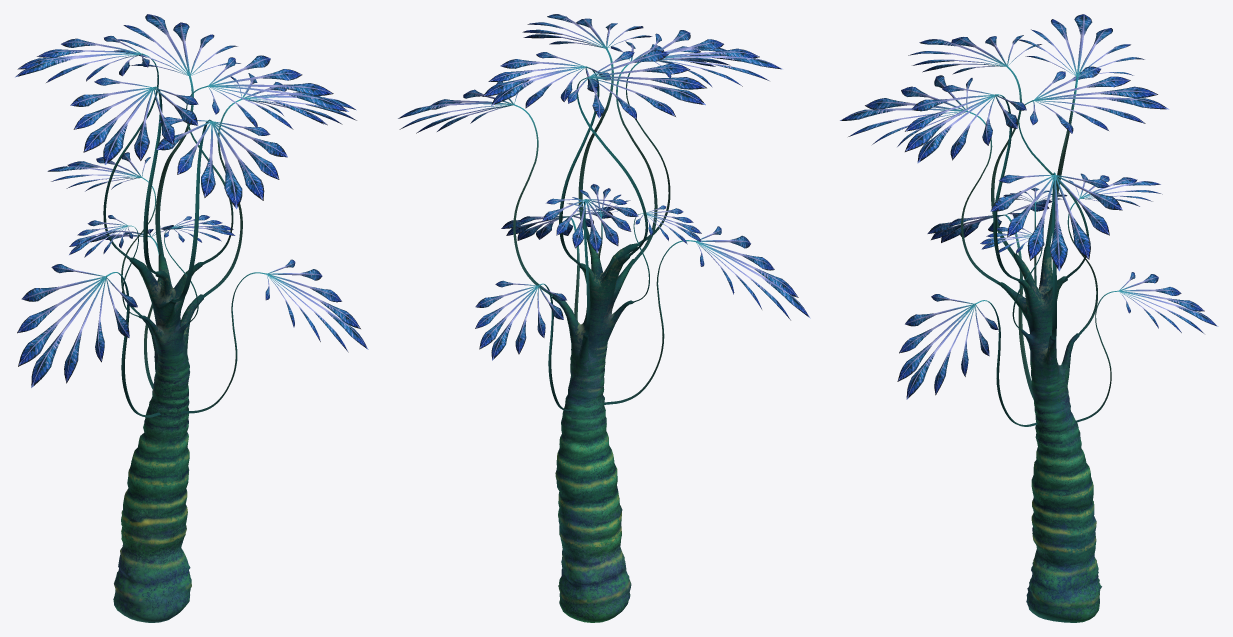
The picture shows the model from 3 angles, left to right: view 1: azimuth 30°, elevation 25°; view 2: azimuth 150°, elevation 25°; view 3: azimuth 270°, elevation 25°; orthographic projection. The views are drawn at different scales.
Parts seen in each view (by area): view 1: SM_APV1_Fern_A_LOD0_Fern_A_0; view 2: SM_APV1_Fern_A_LOD0_Fern_A_0; view 3: SM_APV1_Fern_A_LOD0_Fern_A_0.
Boxes of the visible parts, <box> form: SM_APV1_Fern_A_LOD0_Fern_A_0: <box>15,14,368,622</box>; SM_APV1_Fern_A_LOD0_Fern_A_0: <box>398,14,810,622</box>; SM_APV1_Fern_A_LOD0_Fern_A_0: <box>840,14,1218,622</box>.
Bounding box in the file's own units: 332 × 486 × 299.
